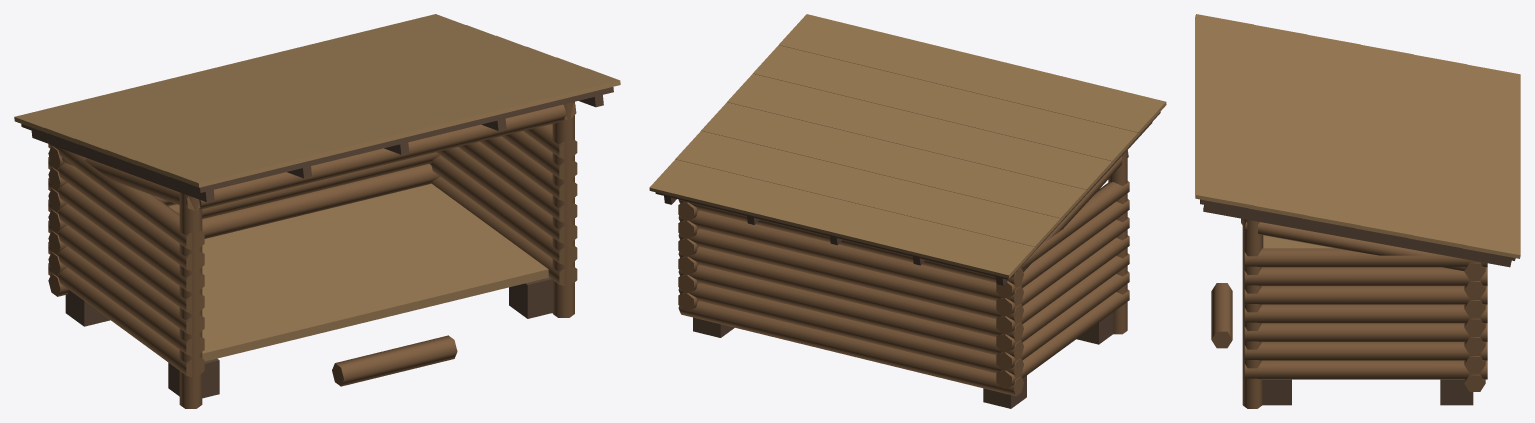
The model's file is shelter.glb.
The picture shows the model from 3 angles, left to right: view 1: azimuth 30°, elevation 25°; view 2: azimuth 150°, elevation 25°; view 3: azimuth 270°, elevation 25°; orthographic projection. The views are drawn at different scales.
Visible parts, largest first — view 1: shelter; view 2: shelter; view 3: shelter.
Part boxes in pixels (x1,y1,x2,y2): shelter: (14,14,620,408); shelter: (649,14,1166,408); shelter: (1195,14,1520,408).
Bounding box in the file's own units: 5.2 × 2.96 × 3.95.
